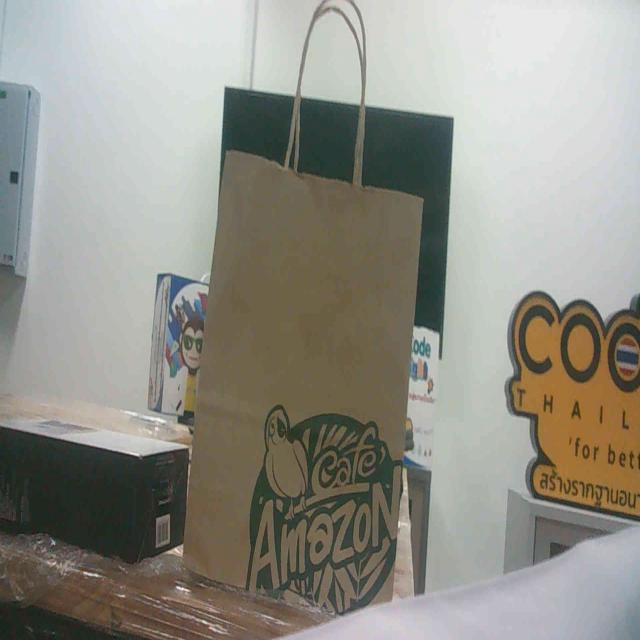bag: (171, 113, 440, 640)
